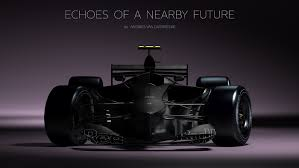FormulaOneCar: (41, 41, 258, 152)
